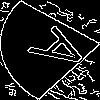A: (25, 25, 100, 80)
